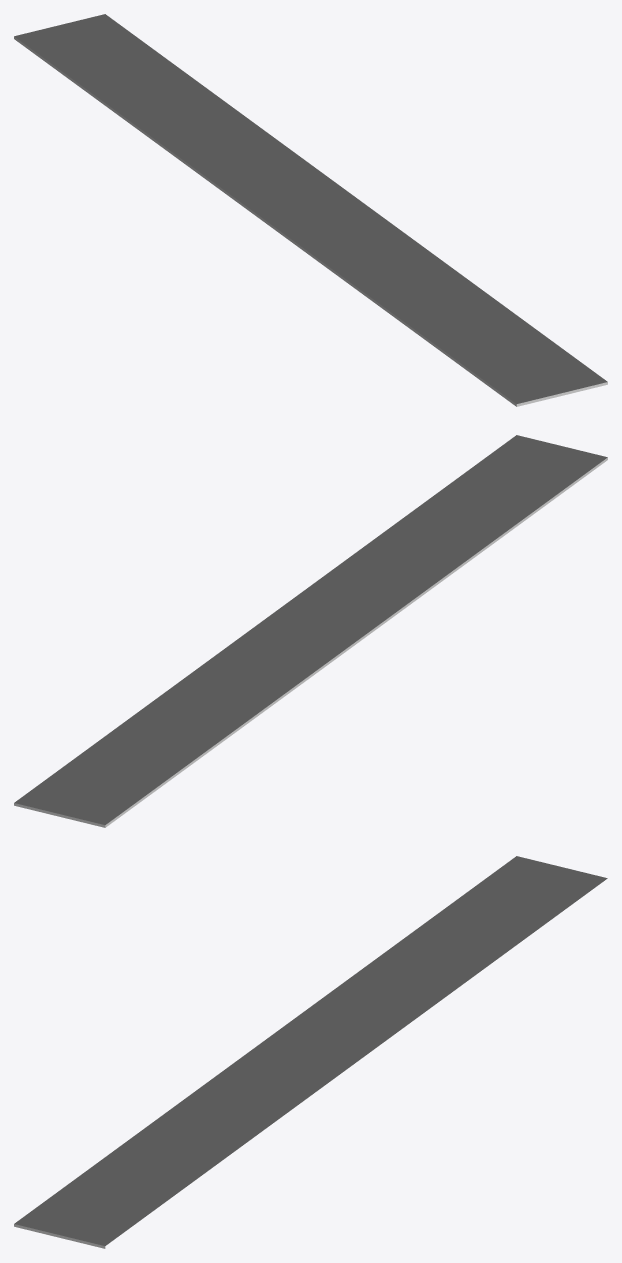
The model's file is ground.glb.
3 renders of one model, top to bottom at view 1: azimuth 30°, elevation 25°; view 2: azimuth 150°, elevation 25°; view 3: azimuth 330°, elevation 25°, orthographic.
Parts seen in each view (by area): view 1: 地面; view 2: 地面; view 3: 地面.
Boxes of the visible parts, box(x1,y1,x2,y2) form: 地面: box(14, 14, 607, 406); 地面: box(14, 435, 607, 827); 地面: box(14, 856, 607, 1248).
Bounding box in the file's own units: 3.5 × 0.1 × 33.37.
Materials: 2 (1 with a texture image).
